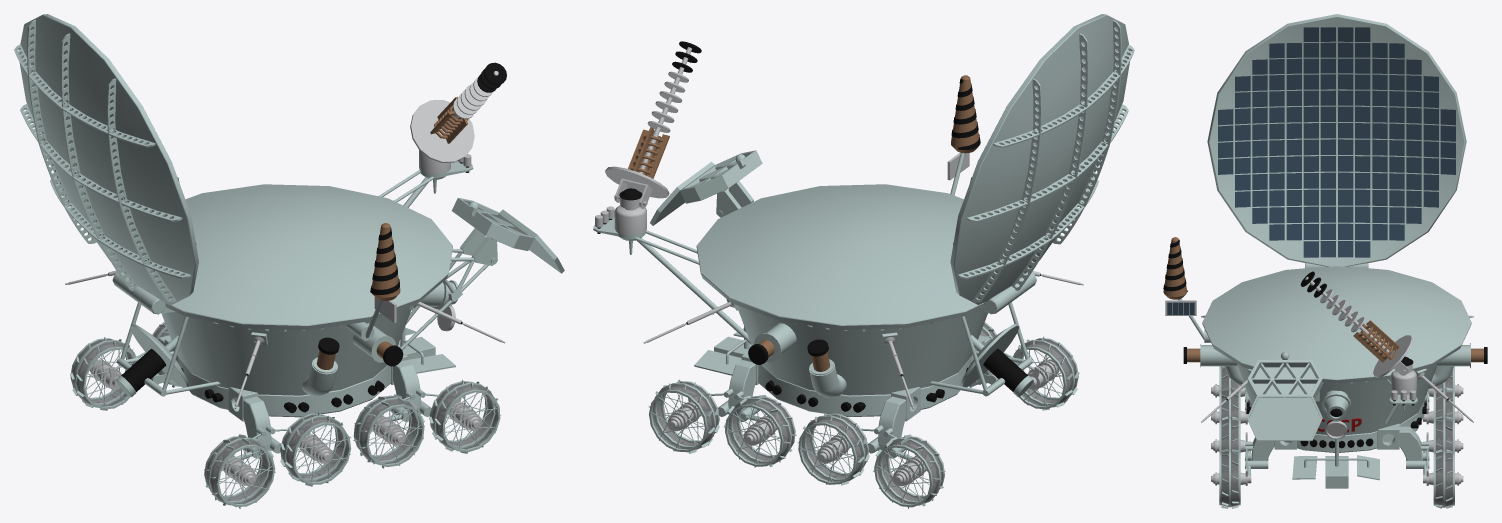
File: lunokhod.glb
The picture shows the model from 3 angles, left to right: view 1: azimuth 30°, elevation 25°; view 2: azimuth 150°, elevation 25°; view 3: azimuth 270°, elevation 25°; orthographic projection. The views are drawn at different scales.
Parts seen in each view (by area): view 1: body_mesh, lid_mesh, wheel_R3_mesh, wheel_R1_mesh, wheel_R2_mesh, wheel_R0_mesh, wheel_L3_mesh; view 2: body_mesh, lid_mesh, wheel_L1_mesh, wheel_L3_mesh, wheel_L0_mesh, wheel_L2_mesh, wheel_R3_mesh; view 3: lid_mesh, body_mesh, wheel_R0_mesh, wheel_L0_mesh, wheel_L1_mesh, wheel_R1_mesh, wheel_L2_mesh, wheel_R2_mesh, wheel_R3_mesh.
Part boxes in pixels (x1,y1,x2,y2): body_mesh: (65,62,564,459); lid_mesh: (14,14,198,304); wheel_R3_mesh: (204,434,275,508); wheel_R1_mesh: (353,394,424,468); wheel_R2_mesh: (280,412,351,486); wheel_R0_mesh: (429,379,501,453); wheel_L3_mesh: (70,337,136,410); body_mesh: (593,41,1083,459); lid_mesh: (950,14,1134,304); wheel_L1_mesh: (723,395,796,467); wheel_L3_mesh: (873,434,945,508); wheel_L0_mesh: (648,379,719,453); wheel_L2_mesh: (797,413,869,485); wheel_R3_mesh: (1013,336,1079,410); lid_mesh: (1207,14,1466,266); body_mesh: (1163,237,1487,488); wheel_R0_mesh: (1211,449,1251,508); wheel_L0_mesh: (1423,449,1463,508); wheel_L1_mesh: (1423,416,1463,452); wheel_R1_mesh: (1211,416,1250,452); wheel_L2_mesh: (1423,387,1463,424); wheel_R2_mesh: (1211,387,1248,424); wheel_R3_mesh: (1211,366,1245,397).
Size of the model in its own units: 3.54 by 3.39 by 2.73.
